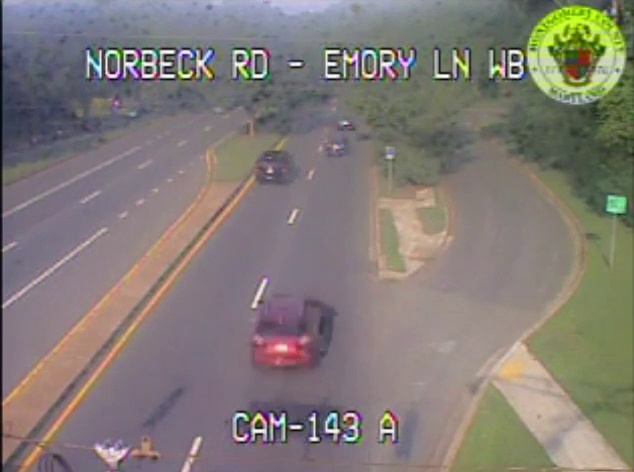car: (251, 296, 313, 367), (254, 151, 290, 182)
